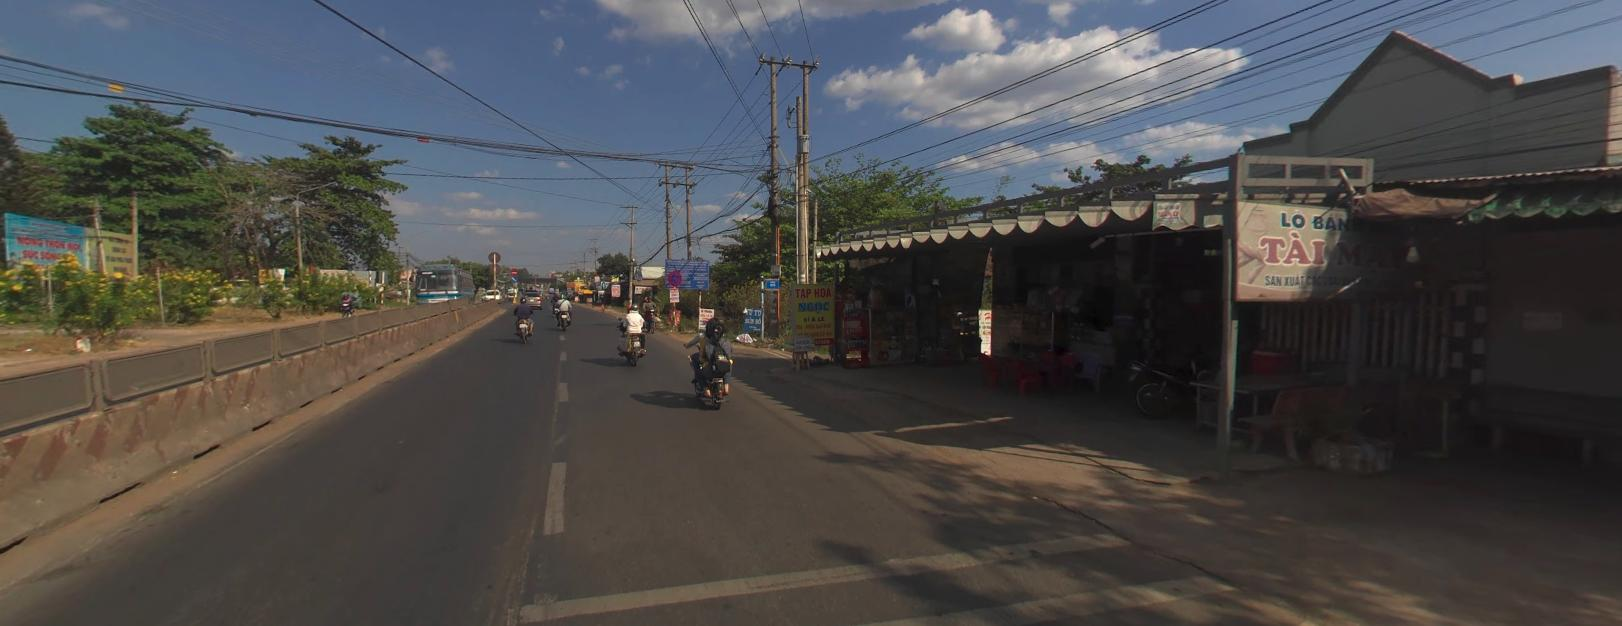Cam dung va do: (667, 269, 681, 285)
Cam nguoc chieu: (510, 267, 517, 274)
Hieu lenh: (510, 275, 516, 281)
